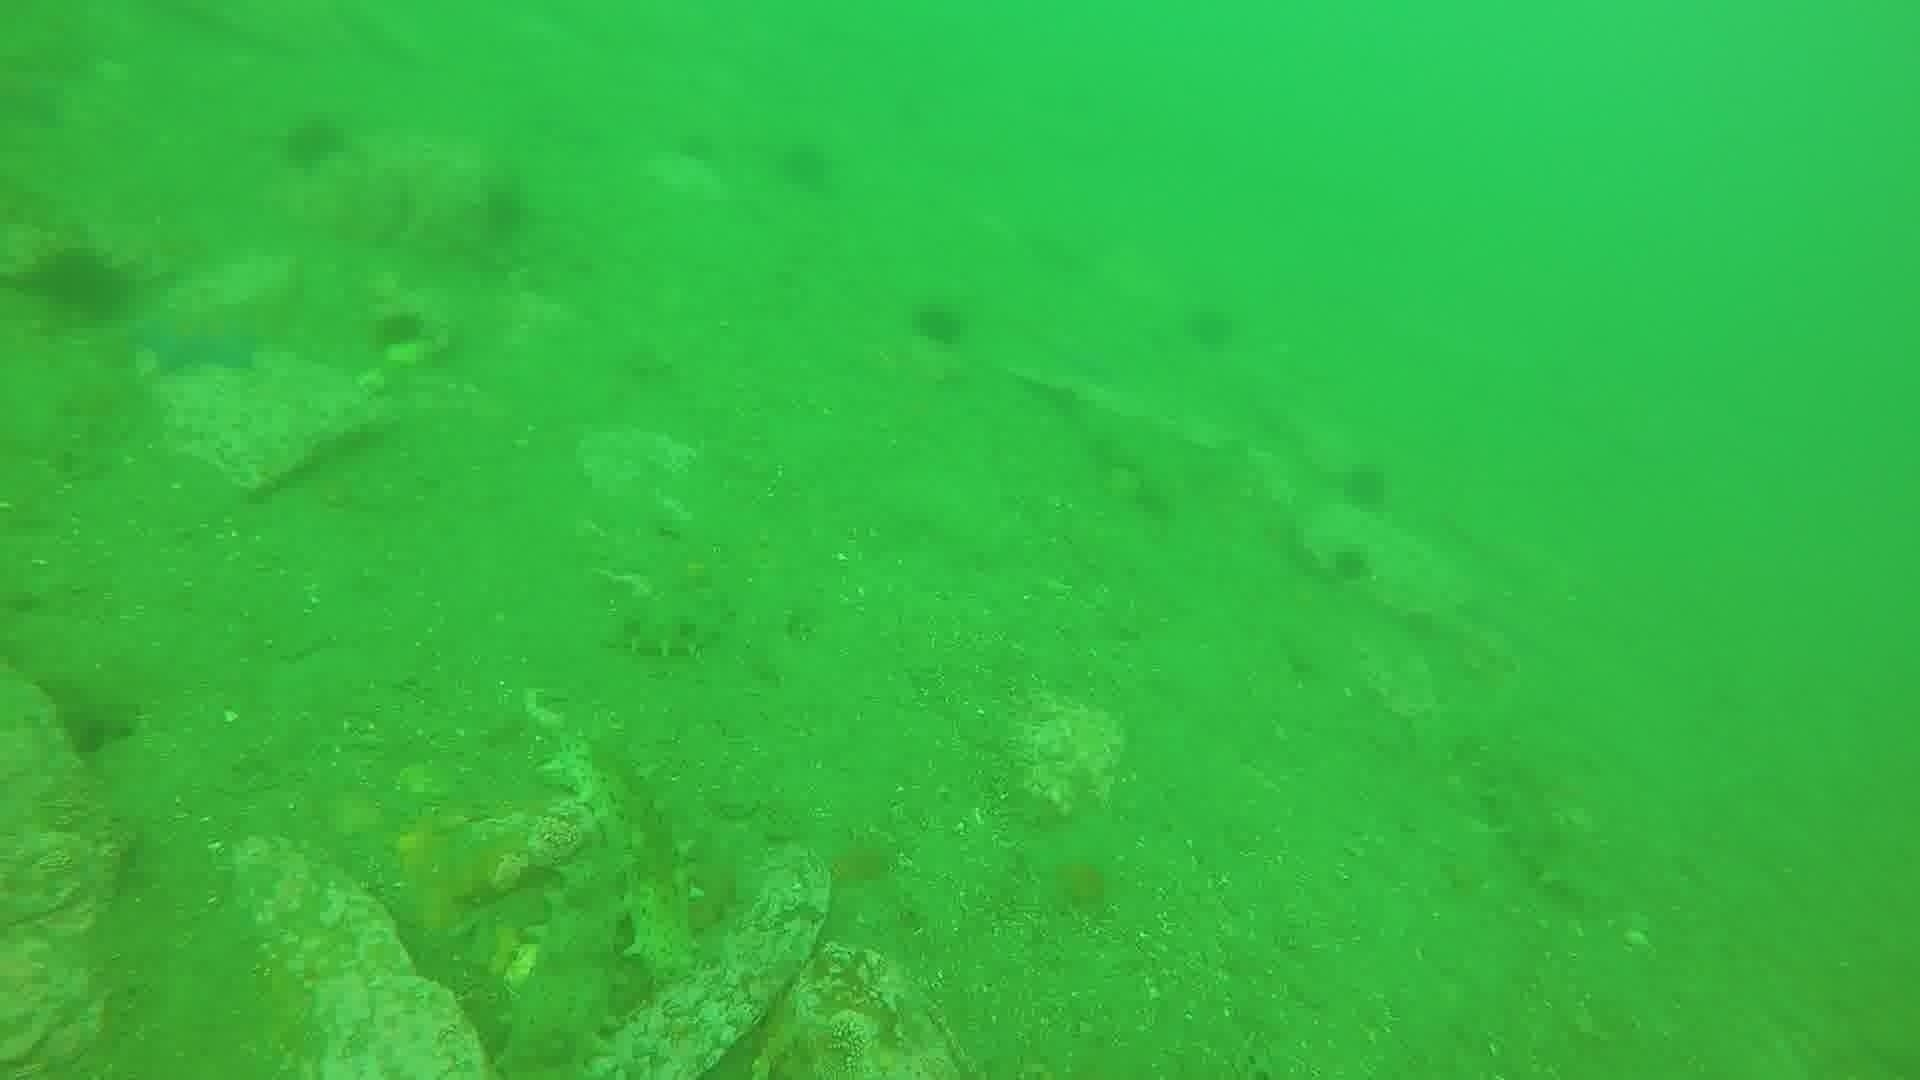echinus: (26, 240, 135, 326), (276, 109, 351, 174), (773, 135, 841, 196), (907, 295, 972, 351), (1336, 458, 1396, 516), (1180, 298, 1244, 353), (1327, 541, 1375, 587), (372, 309, 422, 351)
holothurian: (545, 737, 723, 997), (497, 853, 646, 1075), (1472, 737, 1618, 913), (603, 593, 732, 665)
starfish: (128, 295, 269, 381)
